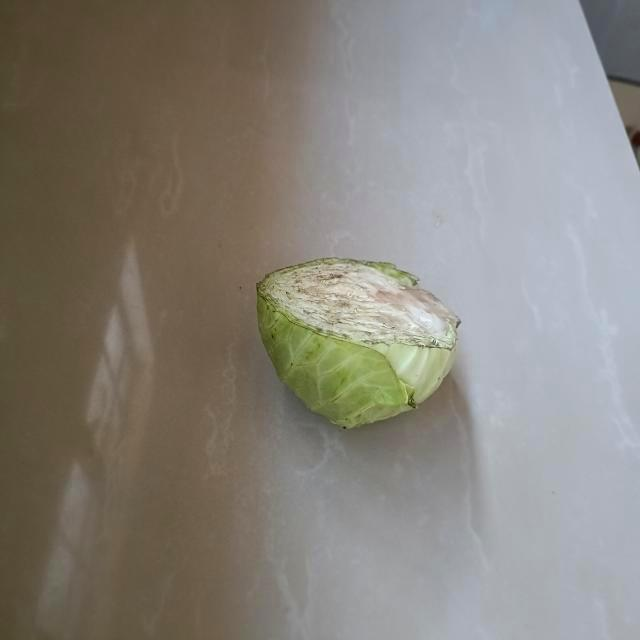cabbage: (256, 253, 460, 435)
